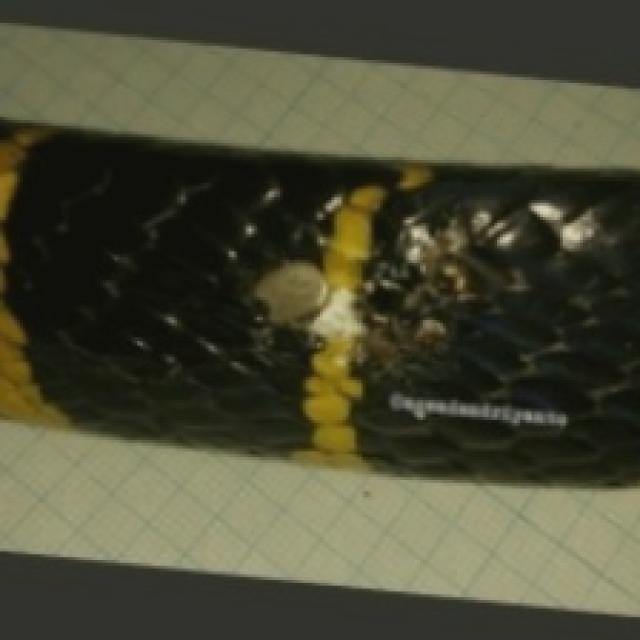mangrove cat snake: (0, 126, 637, 480)
